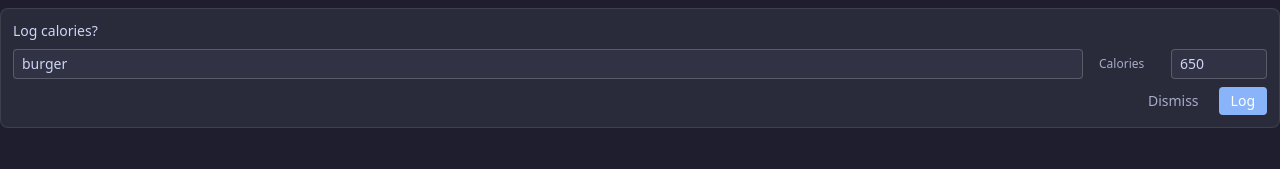
Test: pending cards › shows the server error inline and leaves the card actionable on failure
The image size is (1280, 169).
What coordinates should you click on to do the following:
click the button "Log"
I would click on:
 (1243, 101)
Its box is [1219,87,1267,115].
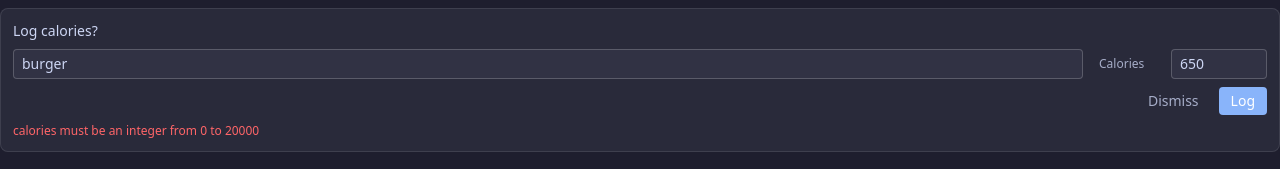
Check: the text "calories must be an integer from 0 to 20000" is shown, box [13,122,259,139]
